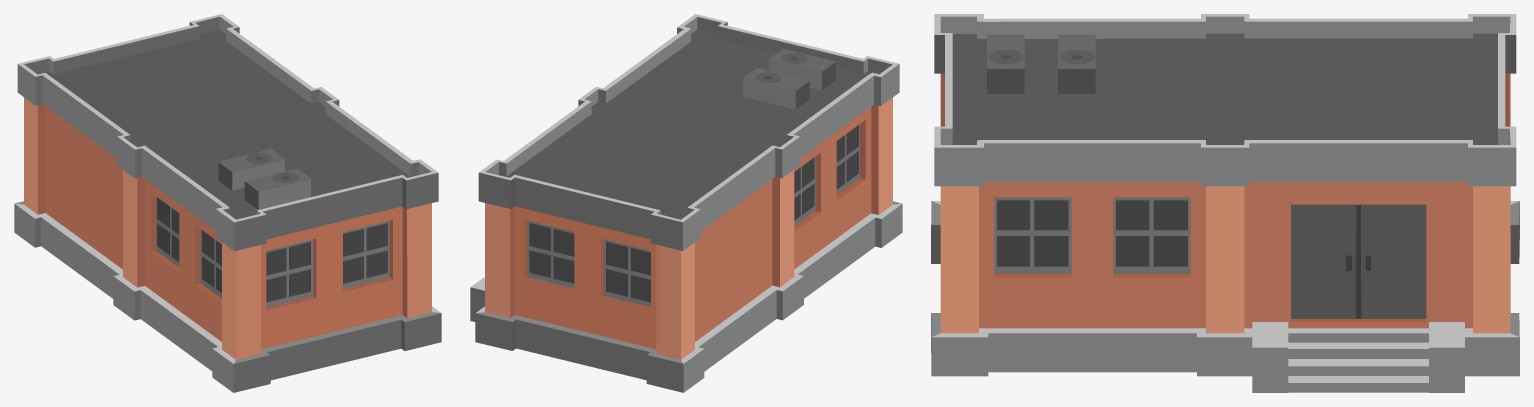
File: factory_3.glb
The picture shows the model from 3 angles, left to right: view 1: azimuth 30°, elevation 25°; view 2: azimuth 150°, elevation 25°; view 3: azimuth 270°, elevation 25°; orthographic projection. The views are drawn at different scales.
Visible parts, largest first — view 1: factory_small_mesh; view 2: factory_small_mesh; view 3: factory_small_mesh.
Boxes of the visible parts, x1,y1,x2,y2 form: factory_small_mesh: (14, 14, 441, 392); factory_small_mesh: (470, 14, 902, 392); factory_small_mesh: (931, 14, 1519, 392).
Bounding box in the file's own units: 0.1018 × 0.0729 × 0.1654.
1 material, 1 textured.
